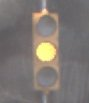Yellow: (26, 7, 63, 95)
